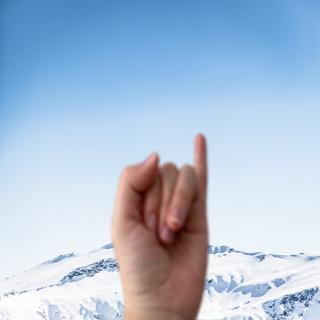Fine: (98, 123, 223, 316)
